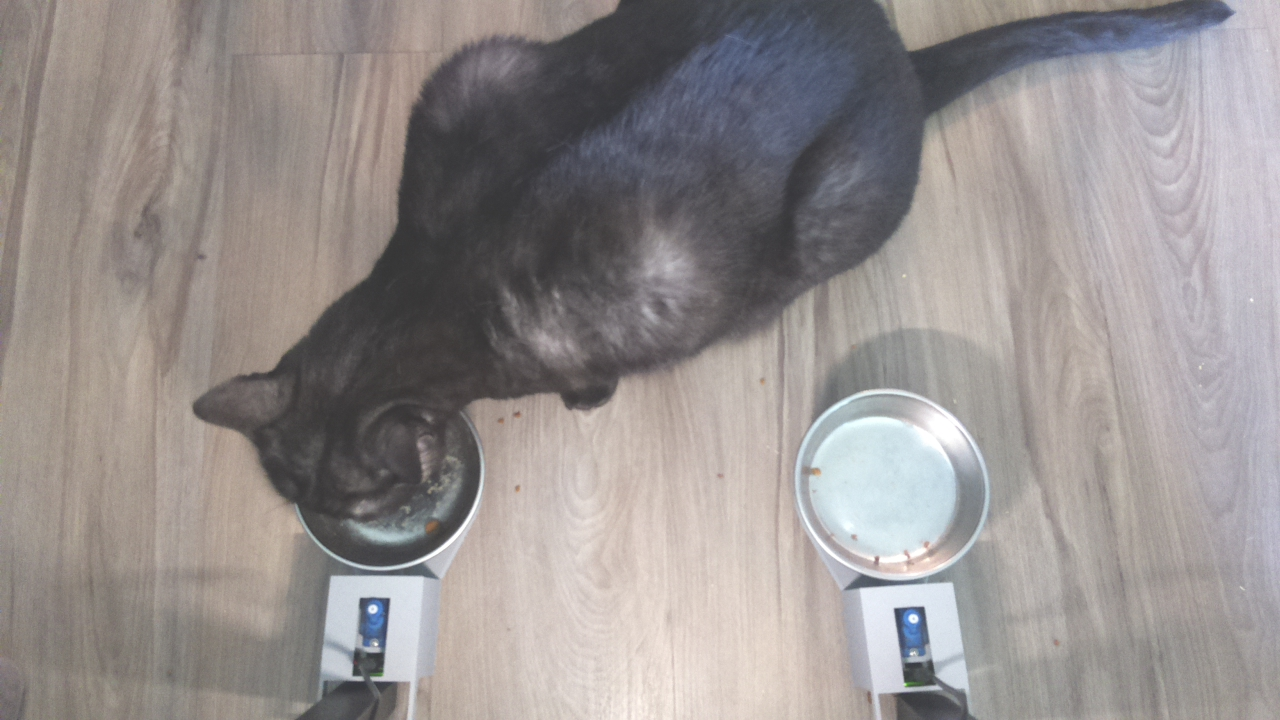open_bowl: (792, 385, 995, 583)
saki_eating: (187, 304, 494, 578)
